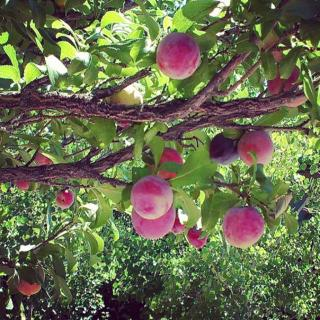Apple: (154, 38, 206, 80), (99, 83, 143, 128), (130, 175, 174, 219), (220, 205, 263, 248), (143, 144, 184, 181), (131, 206, 176, 238), (239, 130, 274, 166), (208, 128, 238, 164), (267, 68, 295, 94), (15, 275, 40, 296), (277, 64, 301, 84), (188, 227, 208, 250), (263, 46, 288, 63), (56, 188, 75, 208), (168, 214, 186, 233), (32, 152, 55, 164), (12, 180, 29, 190)
Peach: (156, 32, 201, 81), (130, 175, 173, 218), (223, 204, 262, 248), (130, 204, 176, 240), (110, 86, 144, 127), (236, 131, 274, 165), (208, 130, 240, 165), (268, 63, 301, 95), (155, 147, 185, 178), (17, 266, 44, 296), (186, 228, 209, 248), (56, 192, 76, 210), (172, 215, 186, 235), (35, 152, 50, 165), (15, 178, 29, 190)
